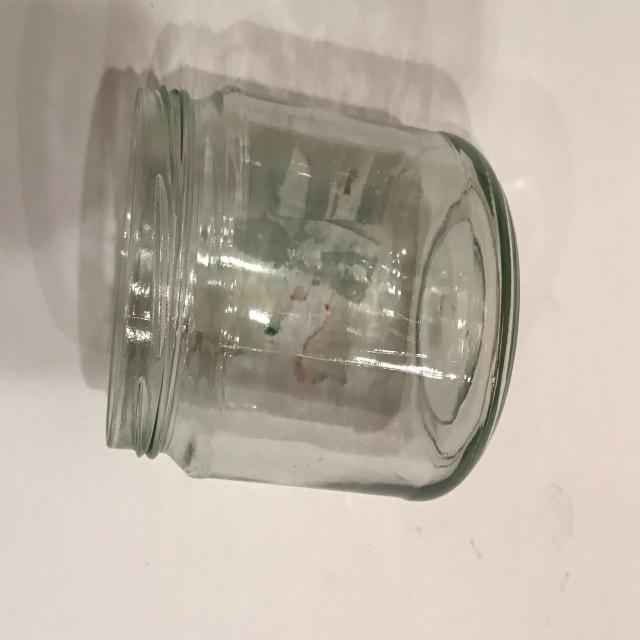glass: (105, 81, 521, 504)
